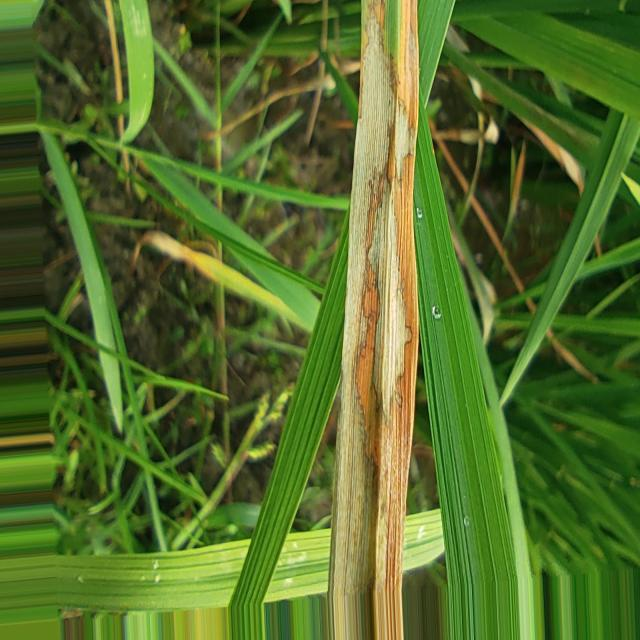Leaf_Blast: (140, 232, 310, 330)
Rice False Smut: (372, 195, 416, 424), (390, 102, 418, 182)
